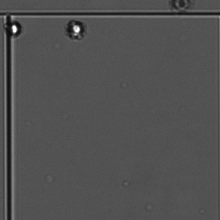Dead Cell: (169, 1, 191, 9)
Living Cell: (62, 17, 92, 51), (5, 19, 27, 43)
